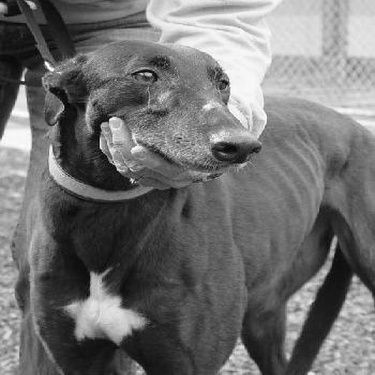dog: (8, 29, 373, 374)
